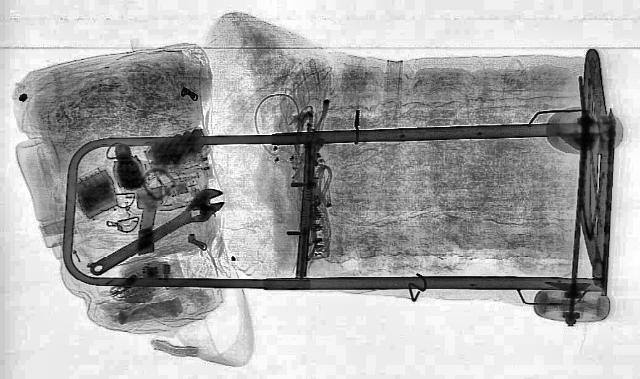Wrench: (78, 186, 238, 280)
